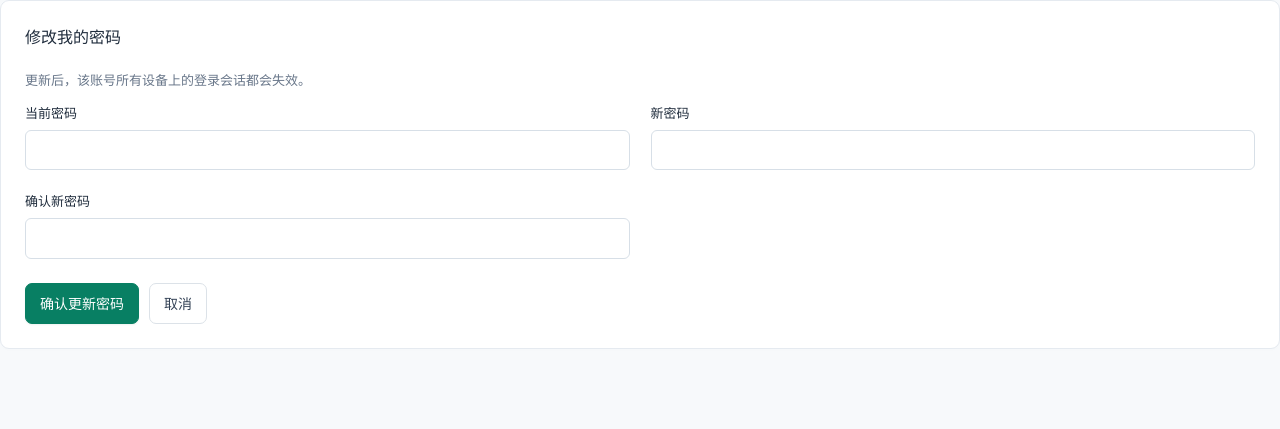
Test: checks confirmation, submits current password and clears session state
Type "old-password" into the password field labelled "当前密码" at x=327, y=150, box left=25, top=130, right=630, bottom=170
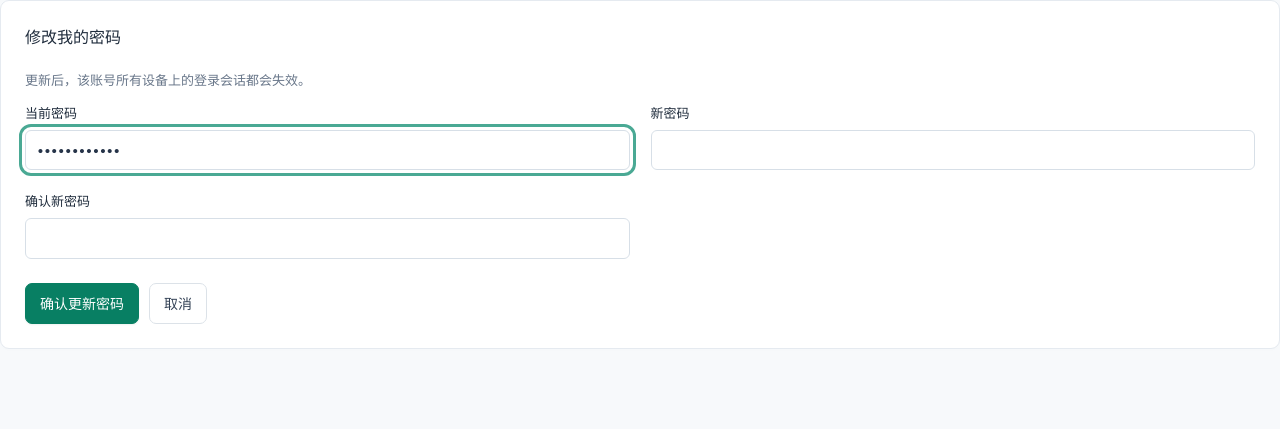
Type "new-password-123" into the password field labelled "新密码" at x=953, y=150, box left=650, top=130, right=1255, bottom=170
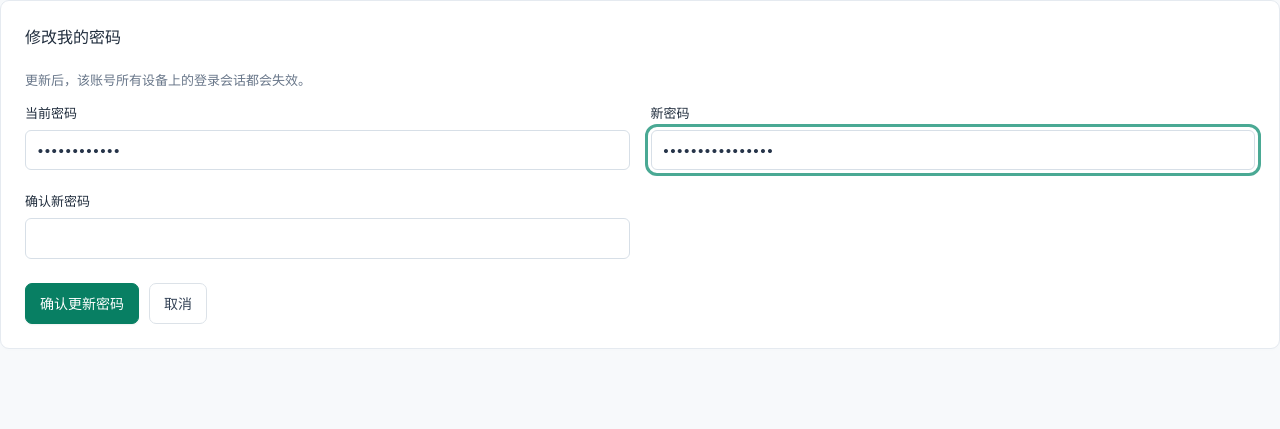
Type "other-password-123" into the password field labelled "确认新密码" at x=327, y=238, box left=25, top=218, right=630, bottom=258
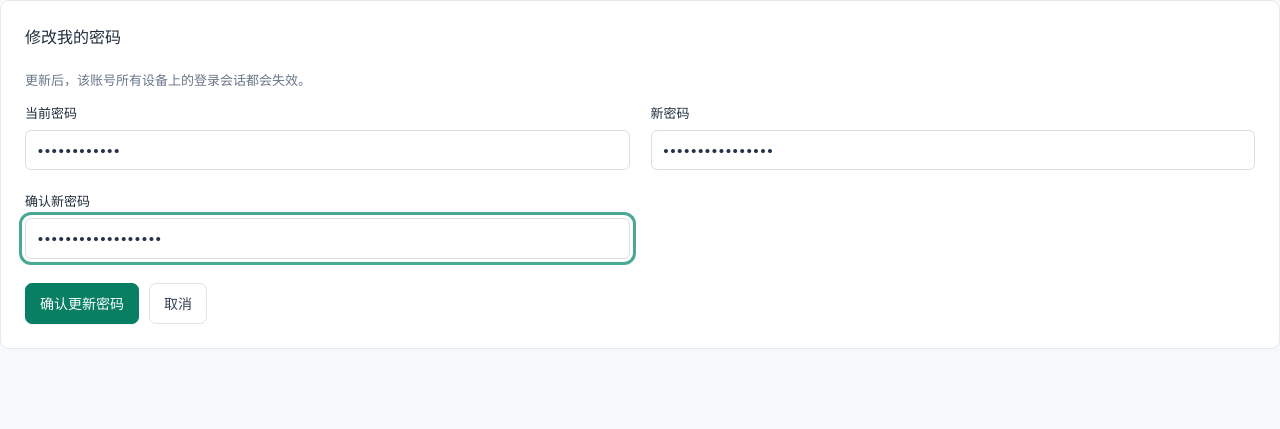
Click the button "确认更新密码" at x=82, y=303, box left=25, top=282, right=139, bottom=324
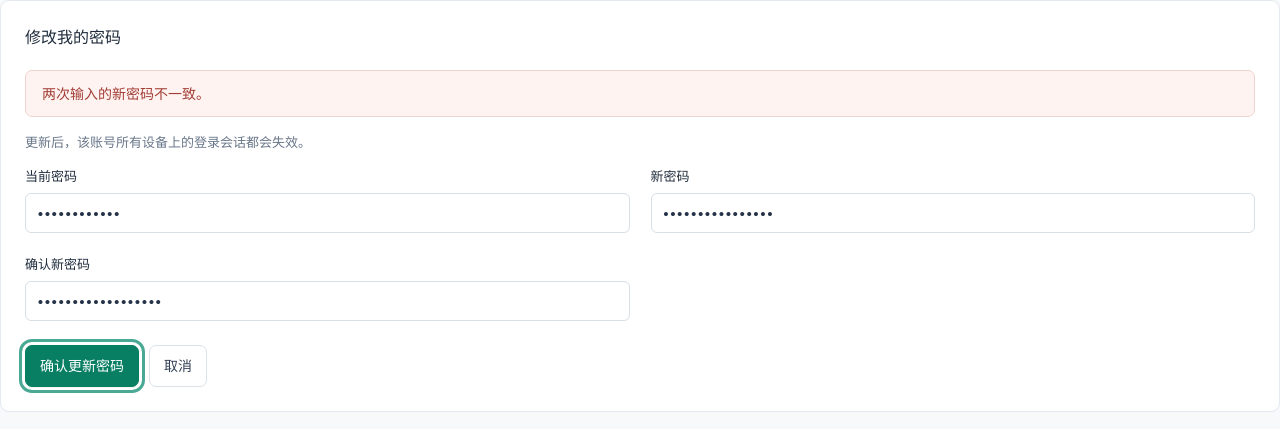
expect the message reads "两次输入的新密码不一致。": met, box left=42, top=85, right=210, bottom=102
Type "new-password-123" into the password field labelled "确认新密码" at x=327, y=301, box left=25, top=281, right=630, bottom=321
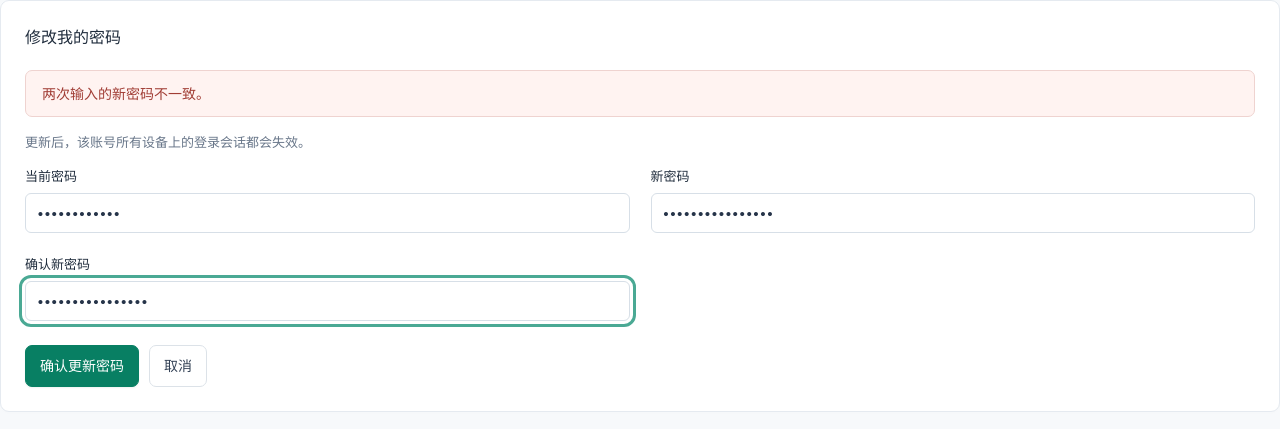
Click the button "确认更新密码" at x=82, y=366, box left=25, top=345, right=139, bottom=387
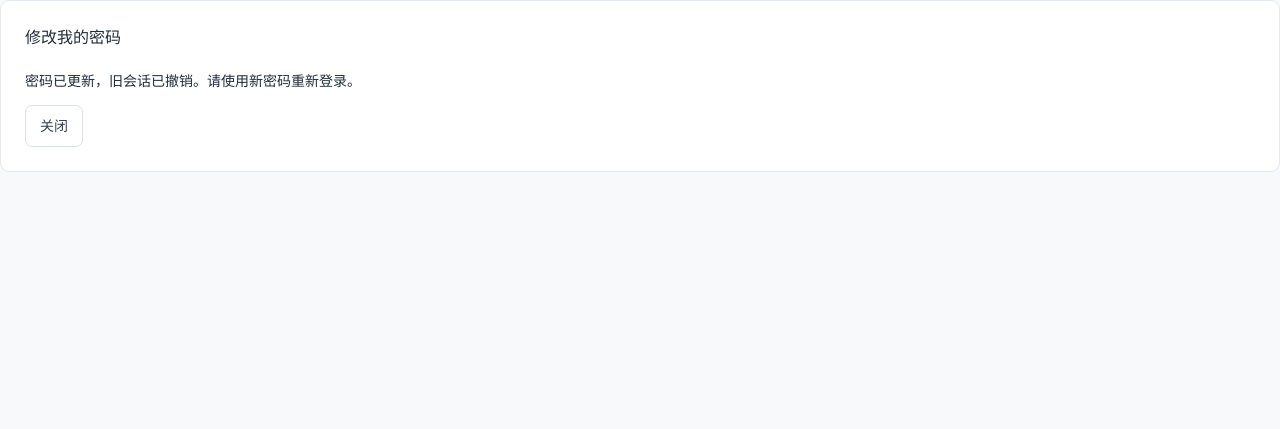
expect the message "密码已更新，旧会话已撤销。请使用新密码重新登录。" is shown: met, box left=25, top=72, right=361, bottom=89
